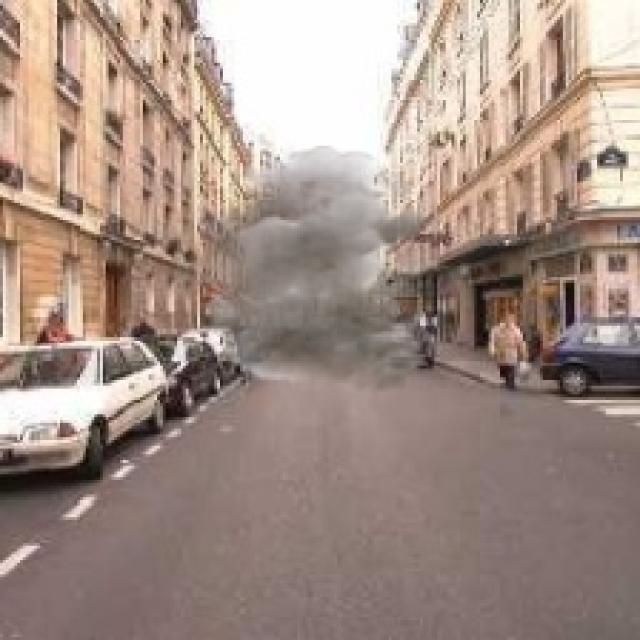Smoke: (174, 146, 434, 394)
